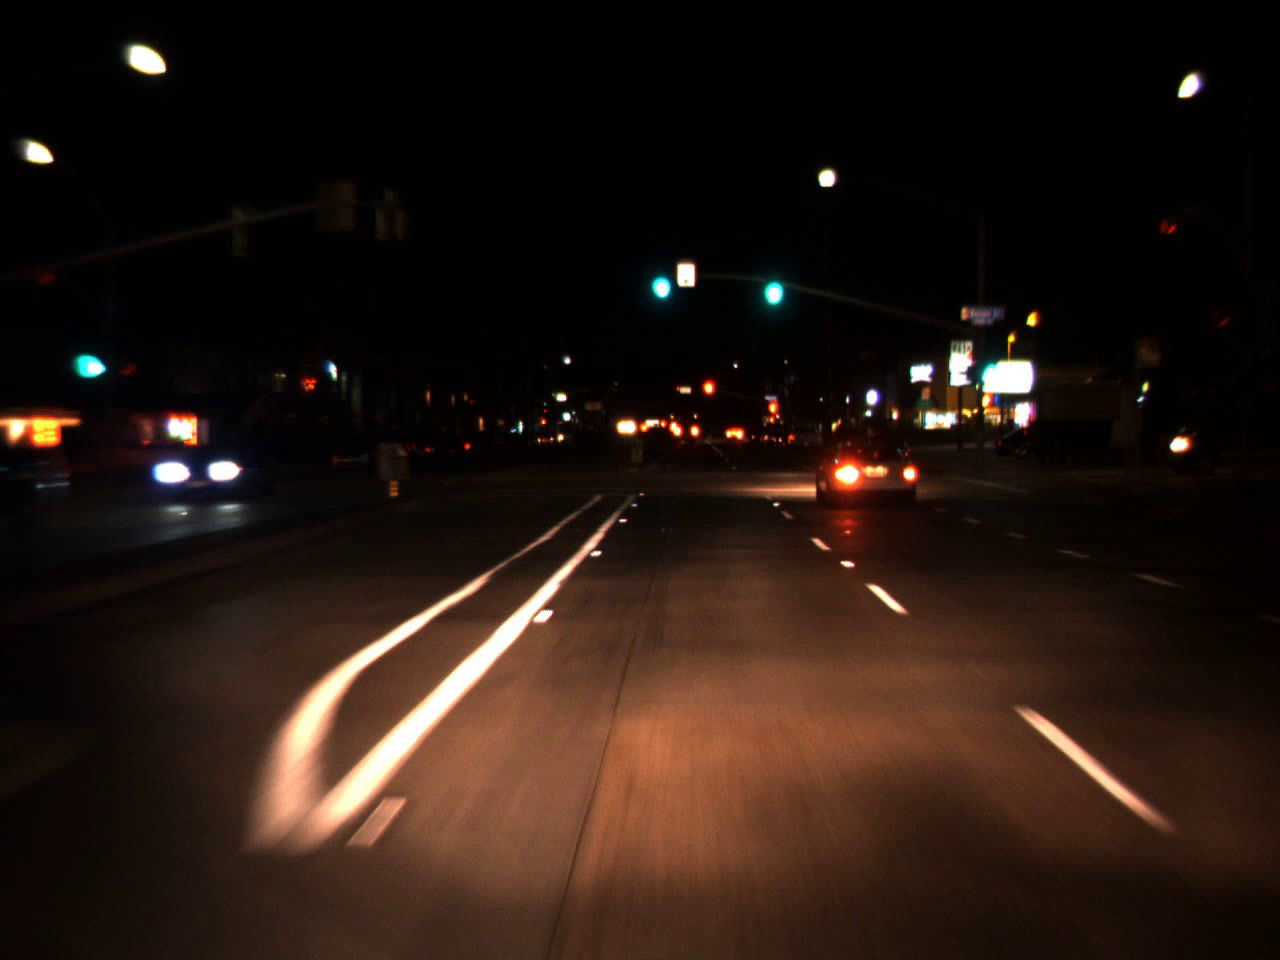go: (67, 324, 104, 387), (756, 251, 786, 314), (644, 249, 674, 306), (979, 347, 1000, 392)
stop: (700, 377, 718, 412), (767, 400, 777, 427)
